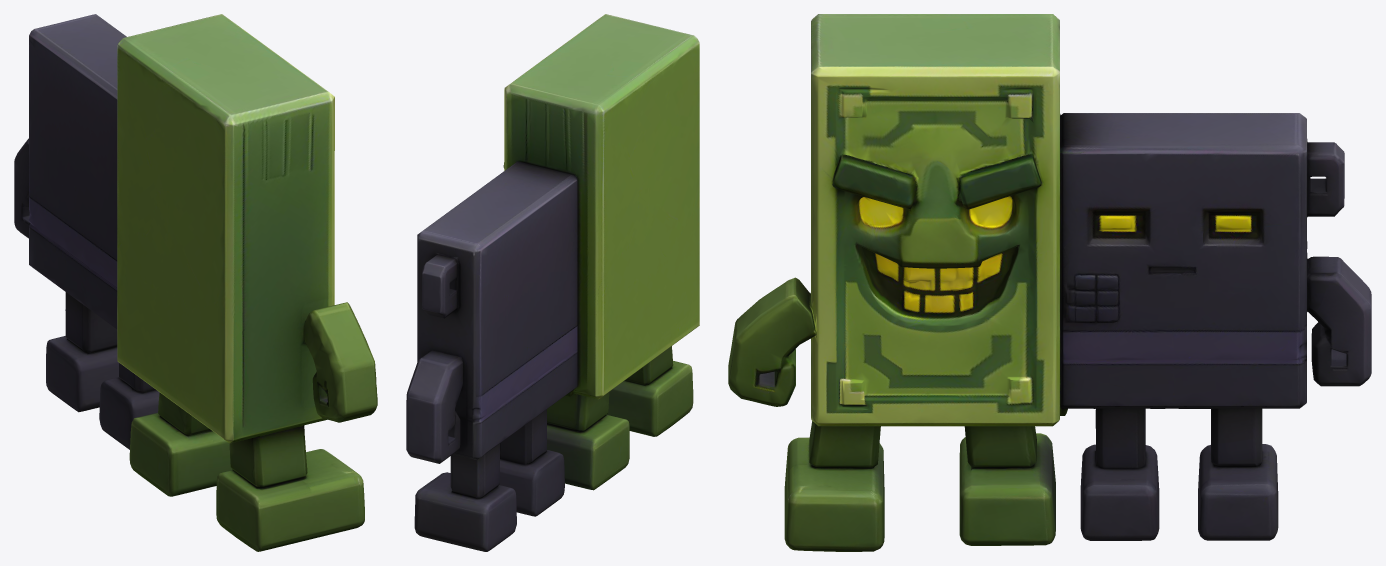
The model's file is 087-block-toy-tripo-v25-standard-15k.glb.
3 renders of one model, left to right at view 1: azimuth 30°, elevation 25°; view 2: azimuth 150°, elevation 25°; view 3: azimuth 270°, elevation 25°, orthographic. The views are drawn at different scales.
Parts seen in each view (by area): view 1: tripo_node_b78903c3-6187-4f5b-a21f-c4512027aa25; view 2: tripo_node_b78903c3-6187-4f5b-a21f-c4512027aa25; view 3: tripo_node_b78903c3-6187-4f5b-a21f-c4512027aa25.
Boxes of the visible parts, x1,y1,x2,y2 form: tripo_node_b78903c3-6187-4f5b-a21f-c4512027aa25: [14, 14, 377, 551]; tripo_node_b78903c3-6187-4f5b-a21f-c4512027aa25: [406, 14, 699, 551]; tripo_node_b78903c3-6187-4f5b-a21f-c4512027aa25: [728, 14, 1371, 551].
Size of the model in its own units: 0.2545 by 0.8158 by 0.9999.
1 material, 1 textured.
